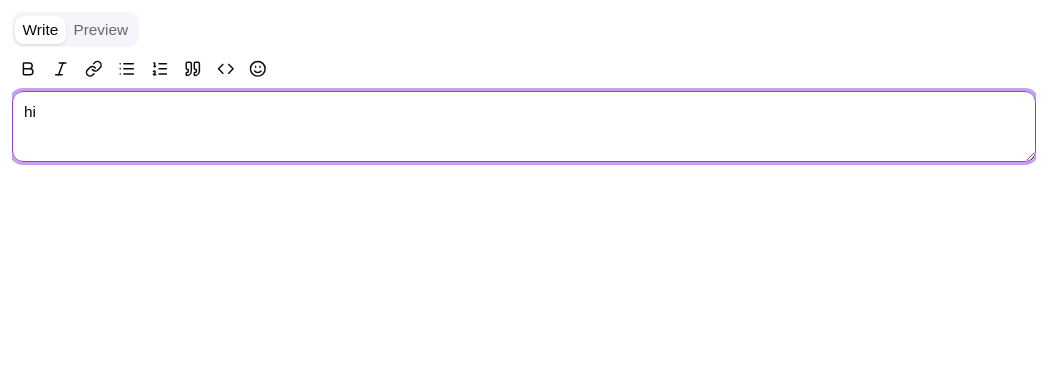
Test: MarkdownEditor › inserts an emoji at the cursor via the emoji picker
Click the button named "Emoji". click: click(258, 69)
box: [243,54,274,85]
(page scrolled)
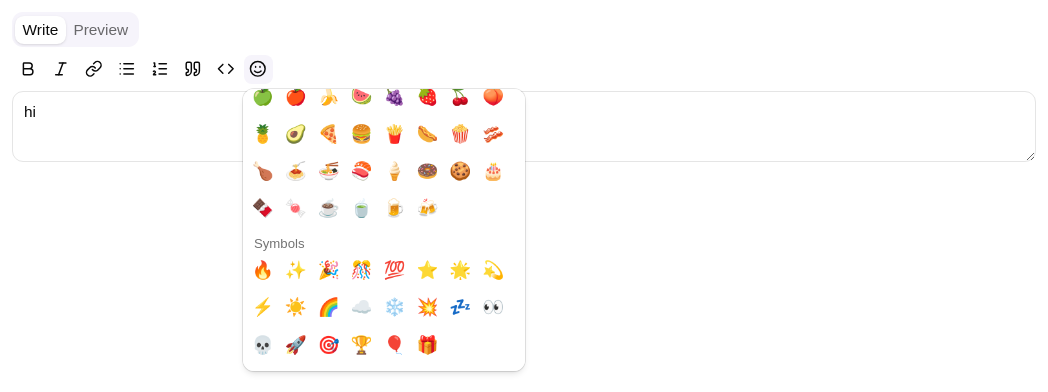
Click the menu item "🔥". click: click(263, 270)
box: [252,260,274,280]
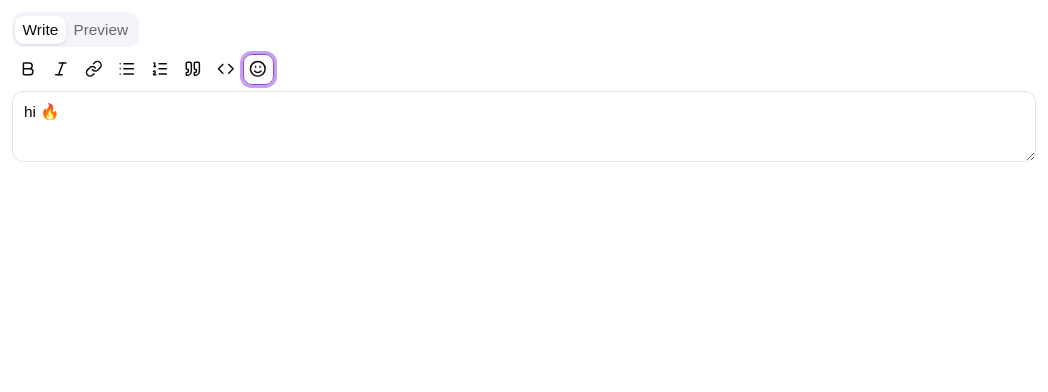
Expected: the text box holds "hi 🔥", [12,91,1036,162]
